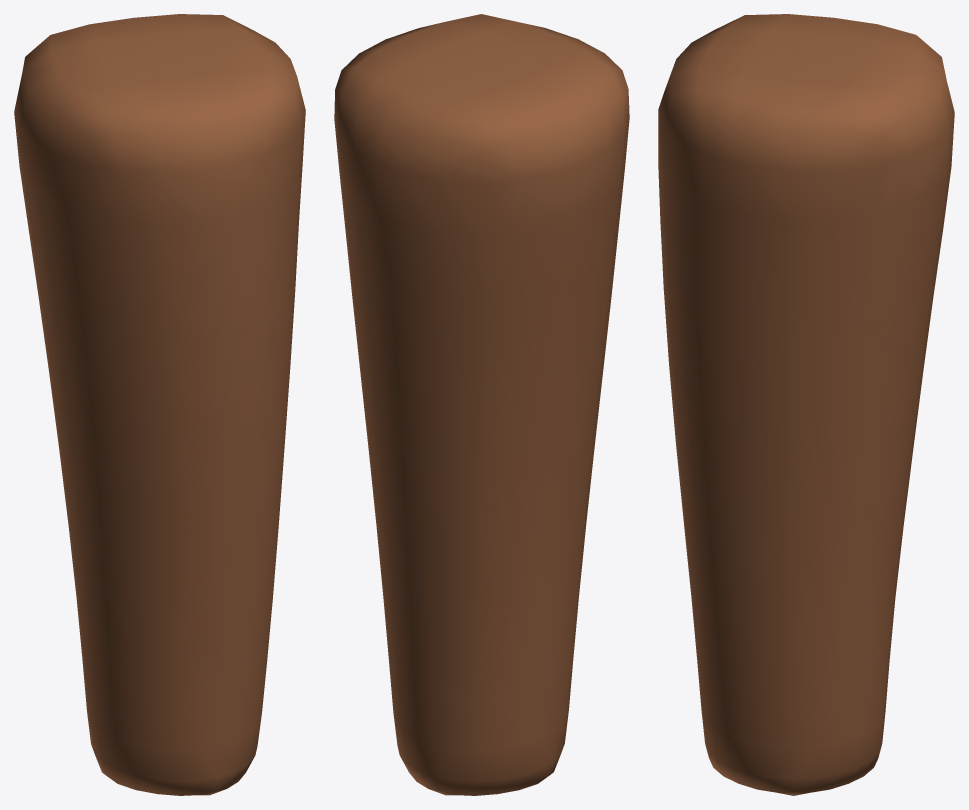
File: musloder.obj
3 views of the same model, side by side, from view 1: azimuth 30°, elevation 25°; view 2: azimuth 150°, elevation 25°; view 3: azimuth 270°, elevation 25° (orthographic).
Parts seen in each view (by area): view 1: MusloDer; view 2: MusloDer; view 3: MusloDer.
Boxes of the visible parts, x1,y1,x2,y2 form: MusloDer: (14,14,305,795); MusloDer: (334,14,629,795); MusloDer: (658,14,954,795).
Bounding box in the file's own units: 0.155 × 0.4185 × 0.1587.
1 material, 1 textured.
